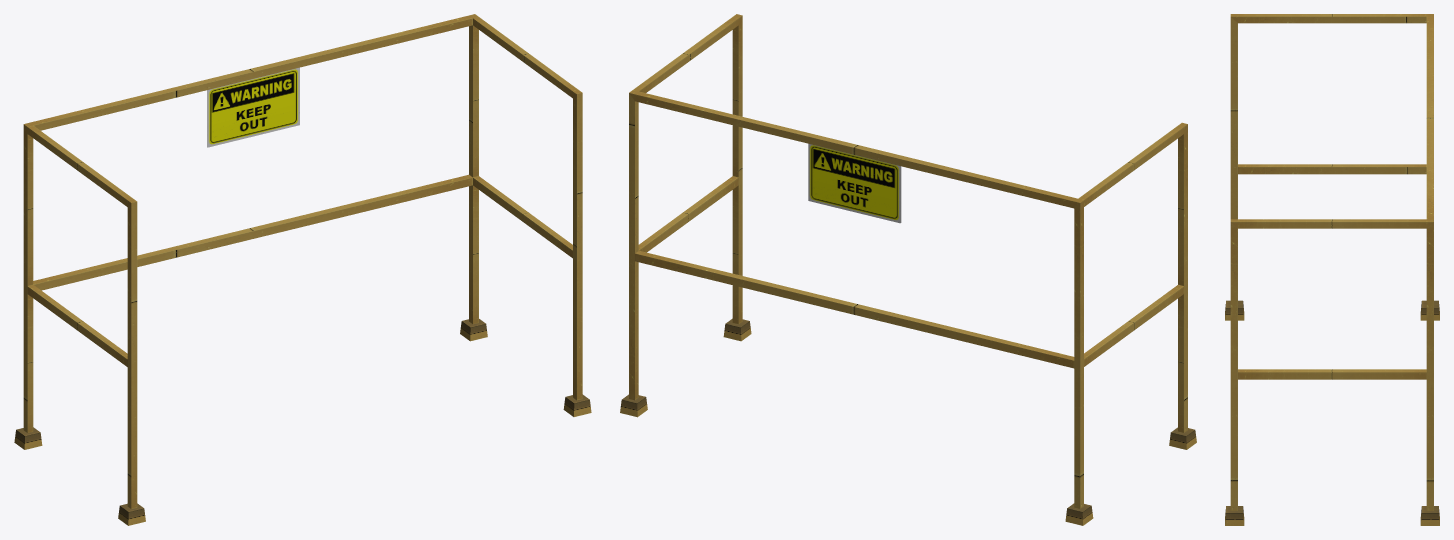
The model's file is Fence_Vert_02.FBX.
3 renders of one model, left to right at view 1: azimuth 30°, elevation 25°; view 2: azimuth 150°, elevation 25°; view 3: azimuth 270°, elevation 25°, orthographic. The views are drawn at different scales.
Parts seen in each view (by area): view 1: Fence_Vert_02; view 2: Fence_Vert_02; view 3: Fence_Vert_02.
Boxes of the visible parts, x1,y1,x2,y2 form: Fence_Vert_02: [14, 14, 591, 525]; Fence_Vert_02: [620, 14, 1196, 525]; Fence_Vert_02: [1225, 14, 1439, 525].
Size of the model in its own units: 72.66 by 47.86 by 30.94.
